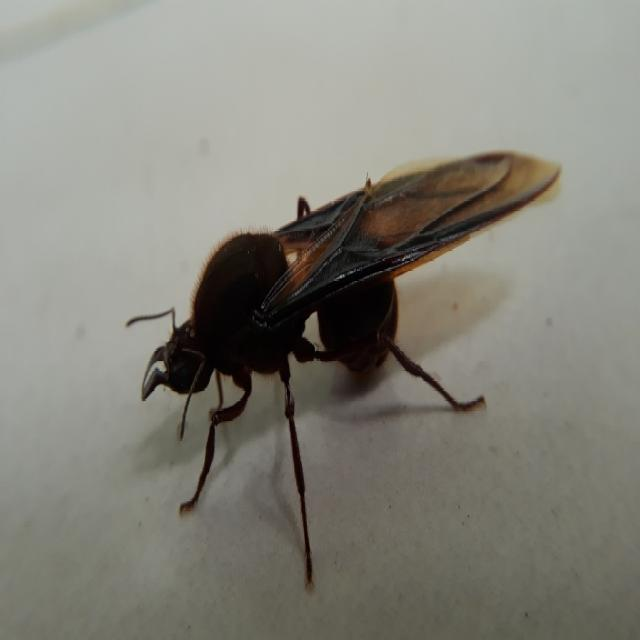Alive-Female-Alate: (125, 152, 563, 592)
